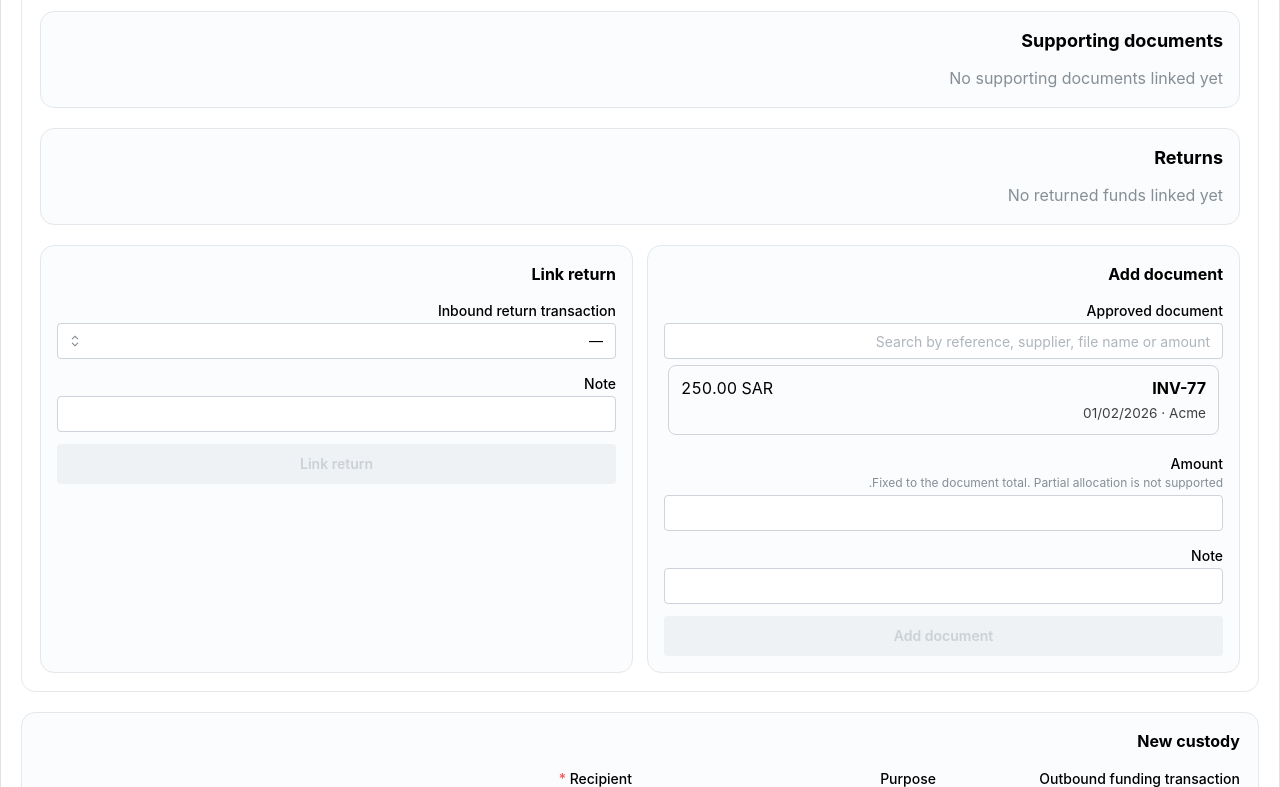
Scenario: CustodyPanel document allocation › explains known server rejections and does not invent a meaning for unknown ones
(page scrolled)
Click the button "INV-77 Acme · 01/02/2026 250.00 SAR" at (1179, 388), box [668, 365, 1219, 435]
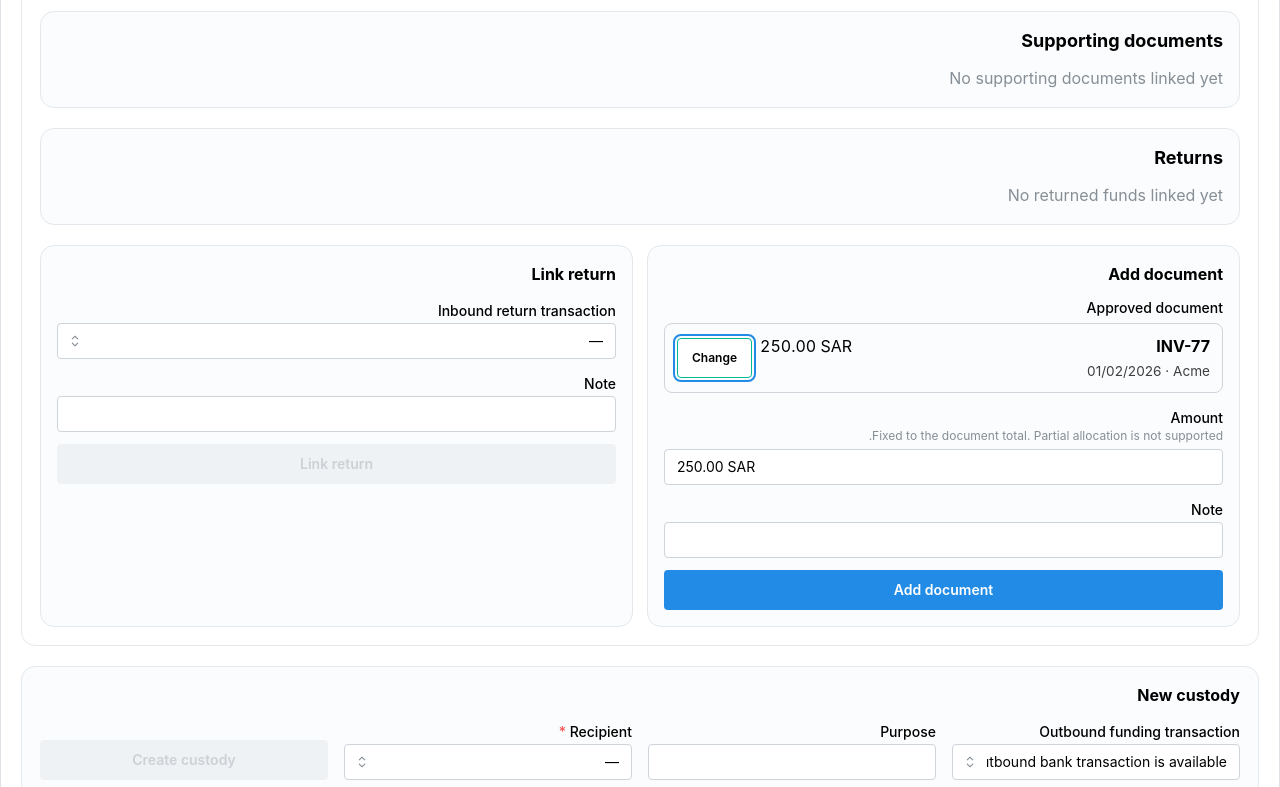
Result: the button "Change" is shown at [677, 338, 752, 378]
Click the button "Add document" at (944, 590), box [664, 570, 1223, 610]
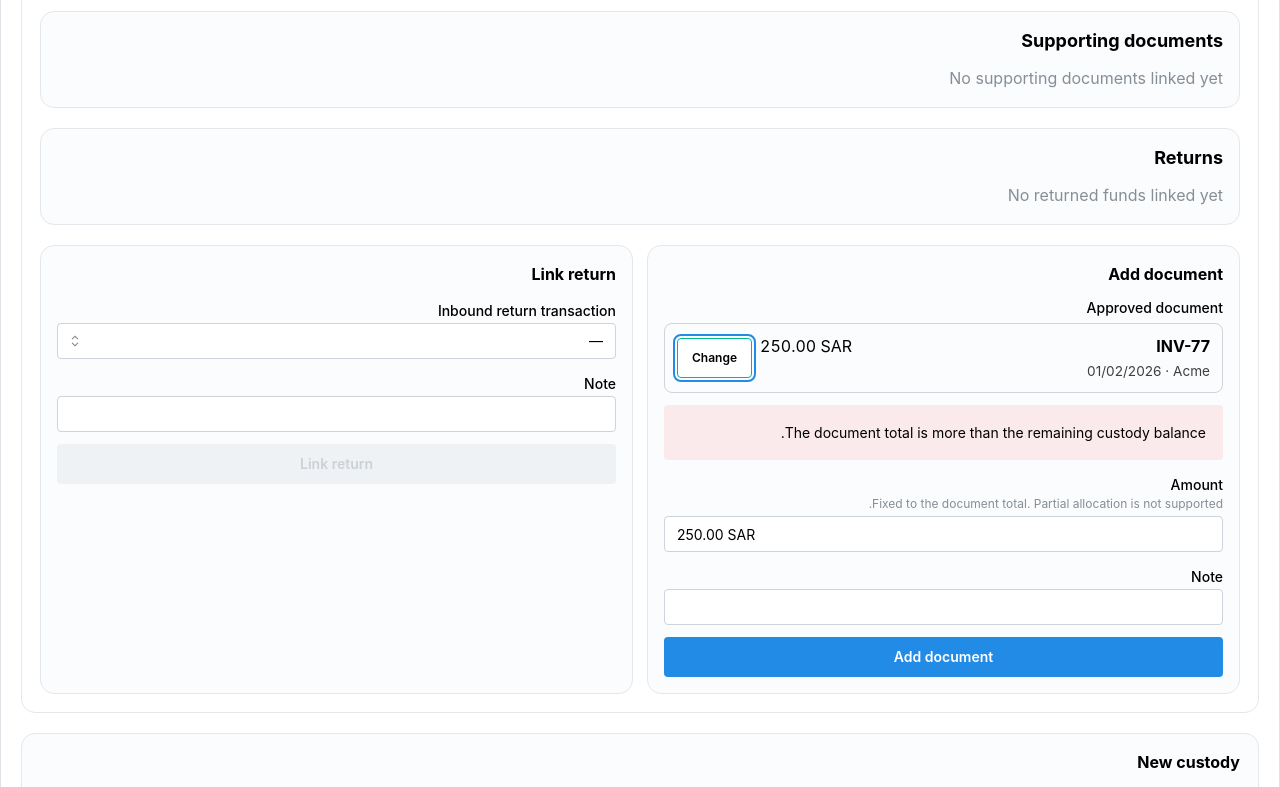
Result: the message shows "more than the remaining custody balance" at [781, 424, 1206, 441]
Click the button "Add document" at (944, 657), box [664, 637, 1223, 677]
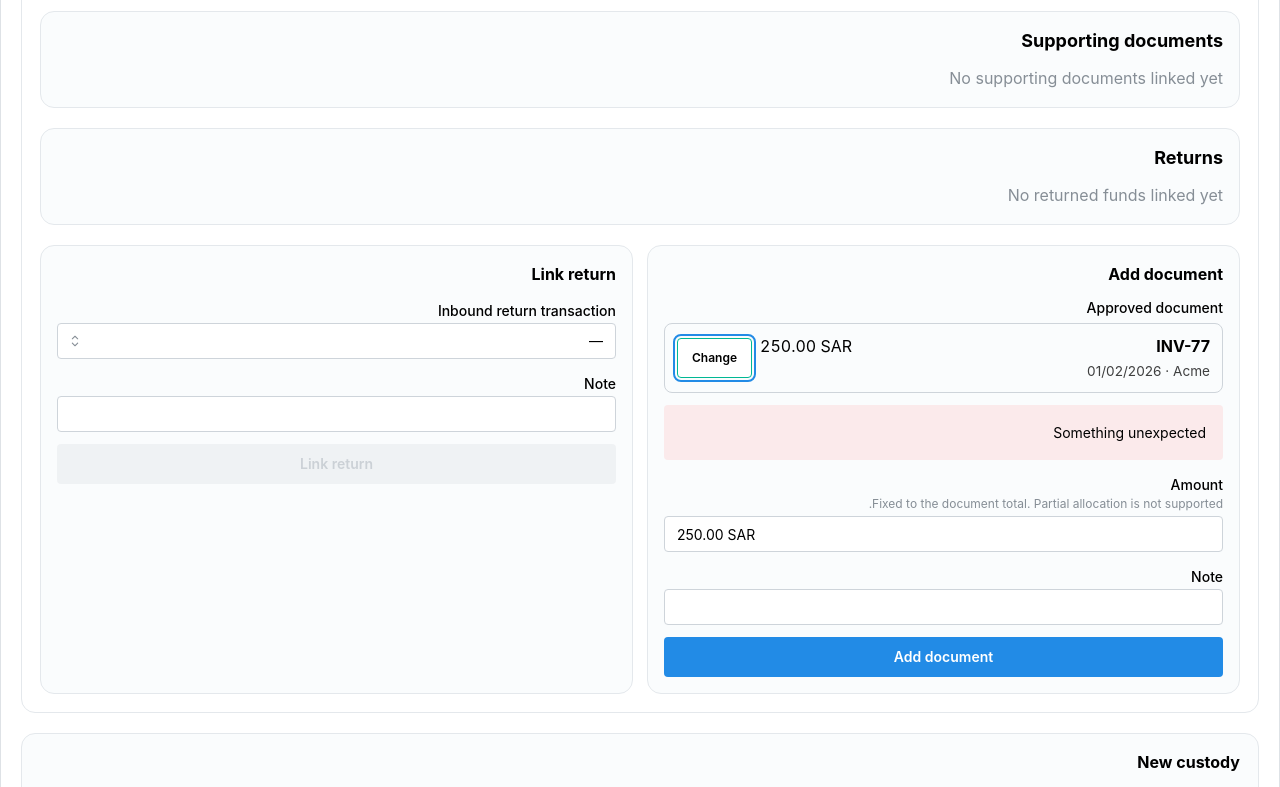
Result: the message reads "Something unexpected" at [1053, 424, 1206, 441]
